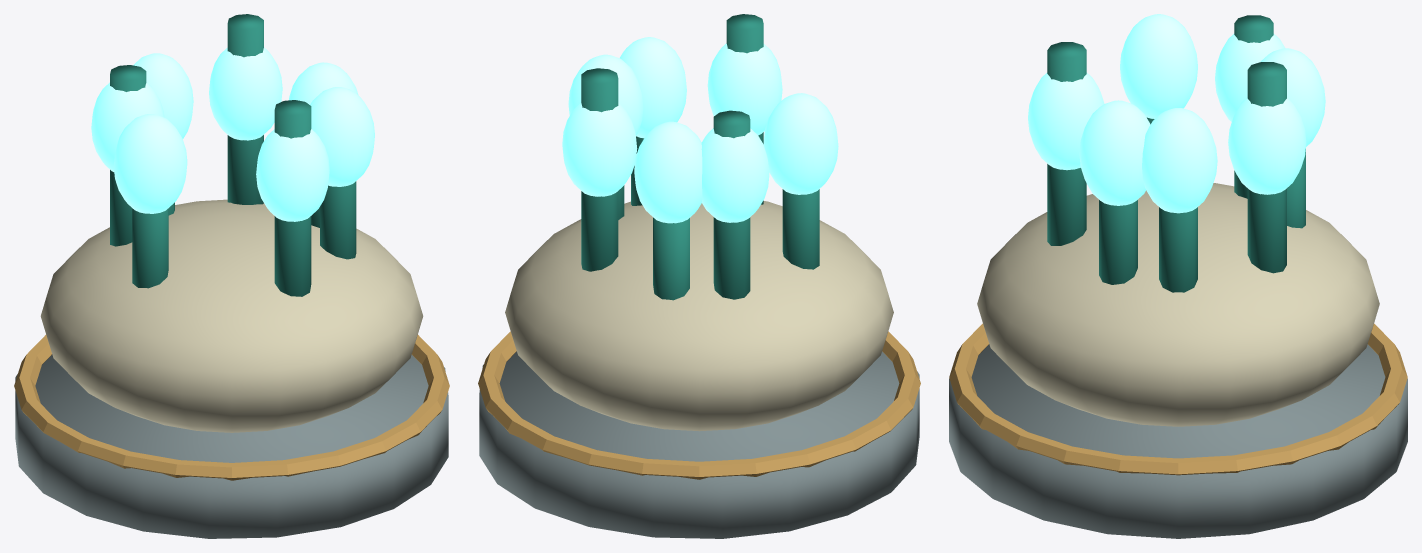
File: module-repair.glb
3 views of the same model, side by side, from view 1: azimuth 30°, elevation 25°; view 2: azimuth 150°, elevation 25°; view 3: azimuth 270°, elevation 25° (orthographic). The views are drawn at different scales.
Parts seen in each view (by area): view 1: module-repair / Ceramic | warm ivory, module-repair / Iron | weathered steel, module-repair / Glass | luminous mint, module-repair / Kelp | malachite, module-repair / Brass | machined champagne; view 2: module-repair / Ceramic | warm ivory, module-repair / Iron | weathered steel, module-repair / Glass | luminous mint, module-repair / Kelp | malachite, module-repair / Brass | machined champagne; view 3: module-repair / Ceramic | warm ivory, module-repair / Iron | weathered steel, module-repair / Glass | luminous mint, module-repair / Kelp | malachite, module-repair / Brass | machined champagne.
Part boxes in pixels (<box>): module-repair / Ceramic | warm ivory: <box>40,199,423,432</box>; module-repair / Iron | weathered steel: <box>15,355,448,538</box>; module-repair / Glass | luminous mint: <box>91,47,374,221</box>; module-repair / Kelp | malachite: <box>110,14,356,296</box>; module-repair / Brass | machined champagne: <box>14,335,449,480</box>; module-repair / Ceramic | warm ivory: <box>505,201,893,431</box>; module-repair / Iron | weathered steel: <box>479,351,919,538</box>; module-repair / Glass | luminous mint: <box>562,37,838,223</box>; module-repair / Kelp | malachite: <box>581,14,819,300</box>; module-repair / Brass | machined champagne: <box>478,331,920,479</box>; module-repair / Ceramic | warm ivory: <box>977,183,1379,426</box>; module-repair / Iron | weathered steel: <box>949,344,1407,538</box>; module-repair / Glass | luminous mint: <box>1028,14,1325,213</box>; module-repair / Kelp | malachite: <box>1047,15,1305,292</box>; module-repair / Brass | machined champagne: <box>949,323,1407,475</box>.
Bounding box in the file's own units: 1.64 × 1.58 × 1.64.
